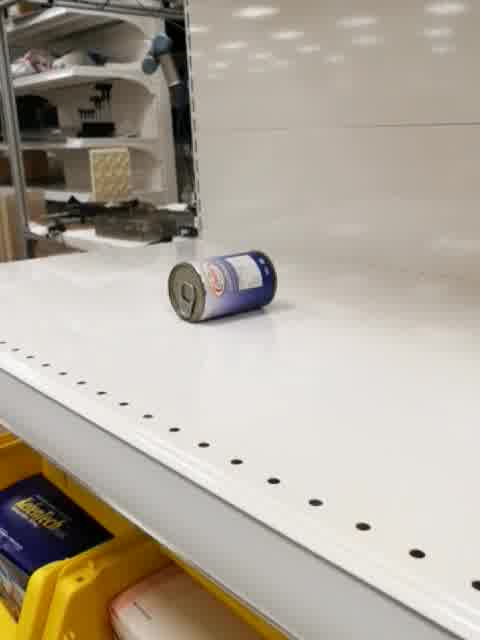sardine: (167, 250, 278, 324)
